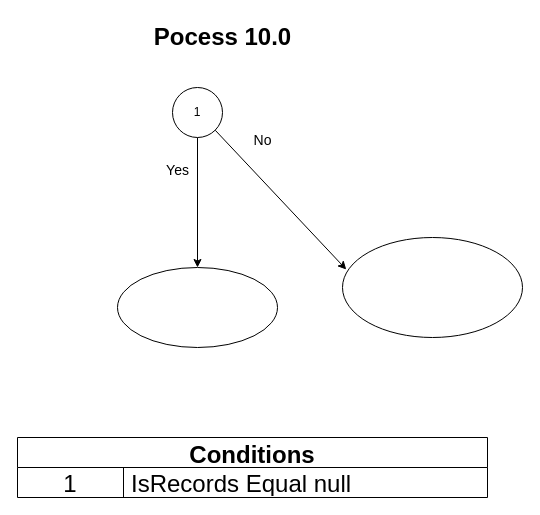
Some shapes in this 540 by 515 pixel diagram are drawn without their labels. Here are the shapes that lost their labels. From the top down, the centre of each, then its label:
the point at 197,307: return Tickets
the point at 432,287: return NotFound
